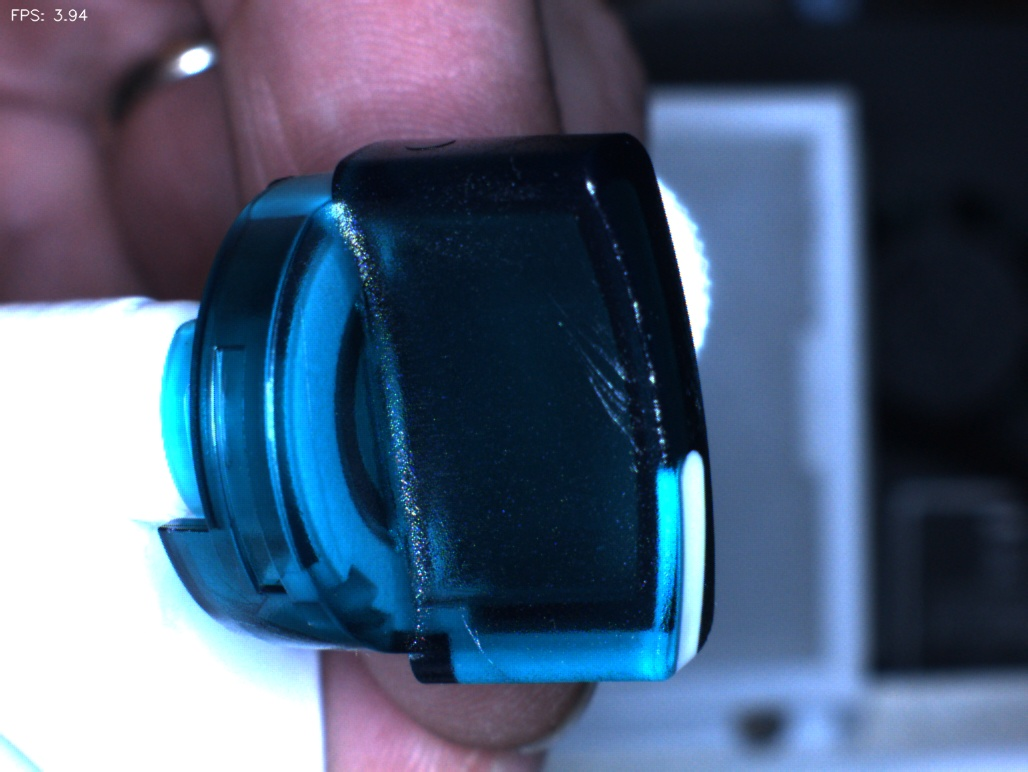Givrage: (542, 295, 652, 484)
